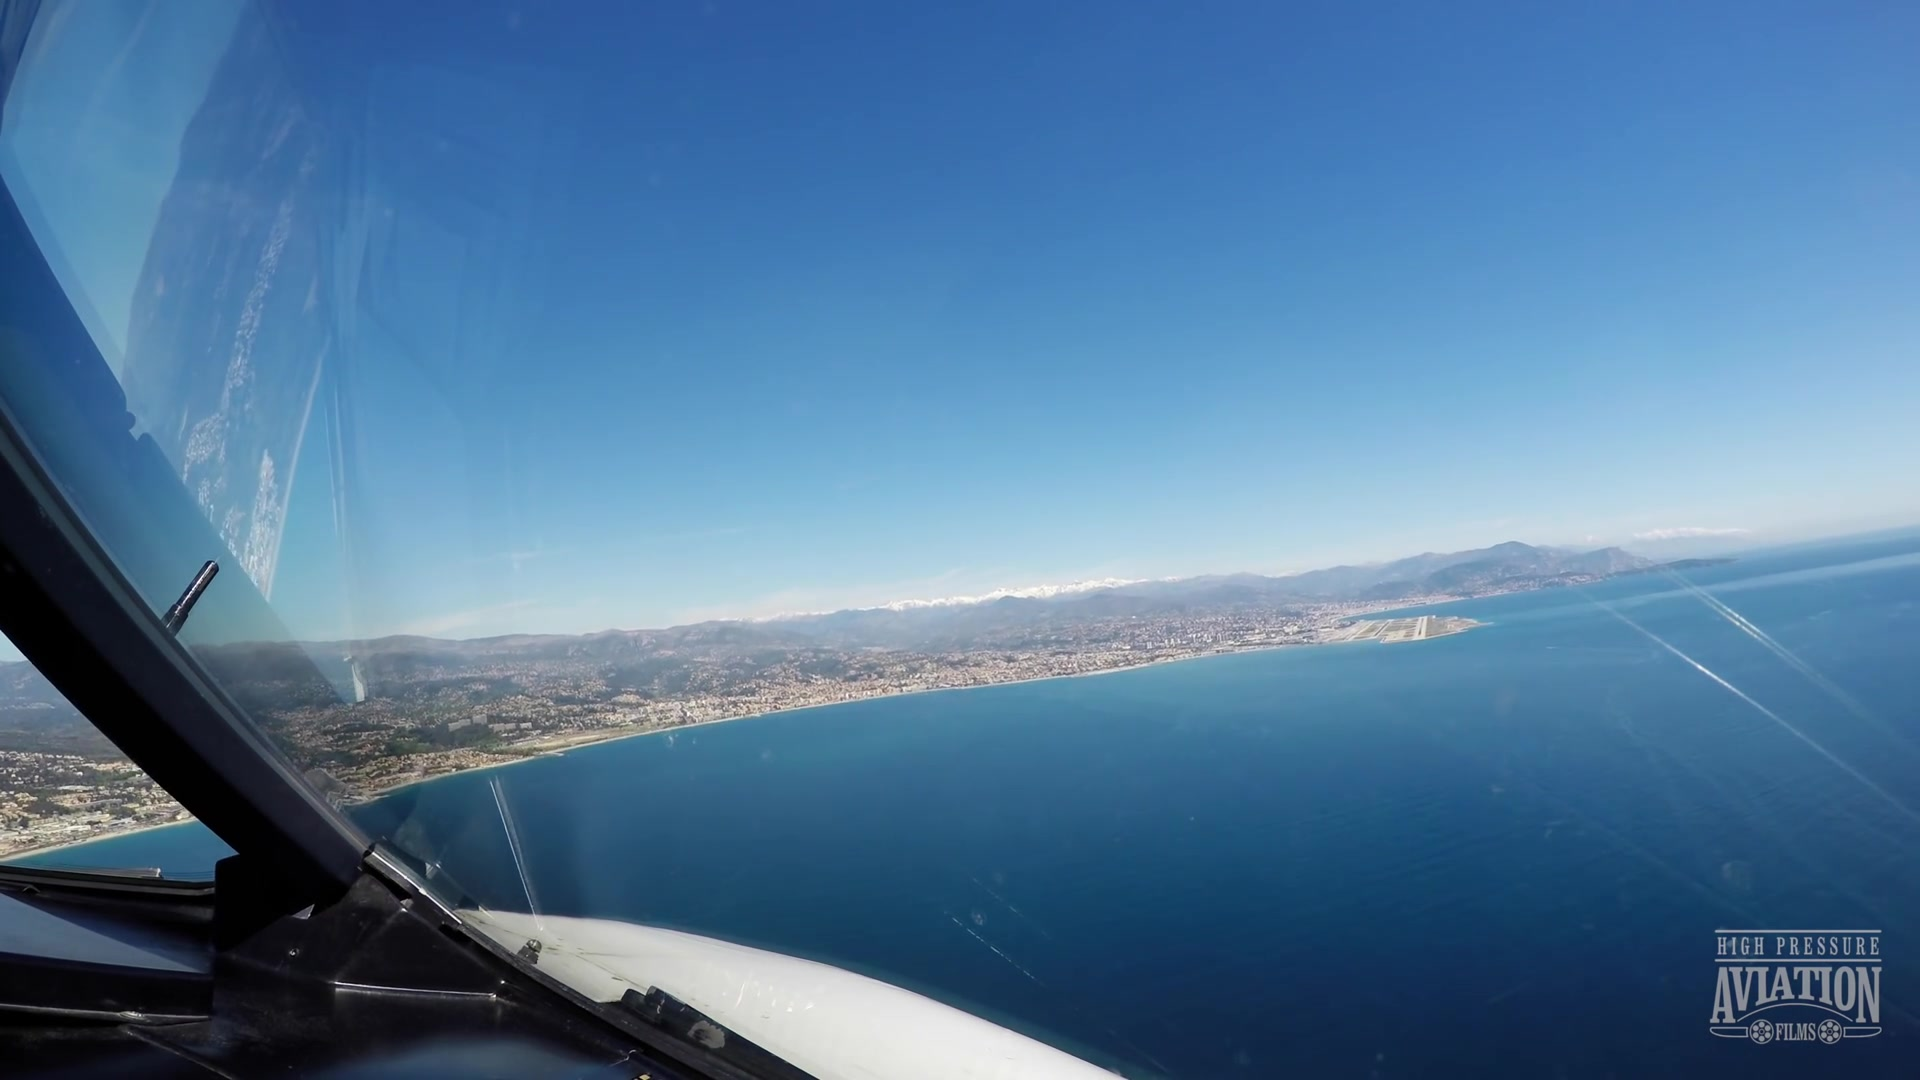runway: (1367, 617, 1394, 642), (1411, 616, 1429, 644)
